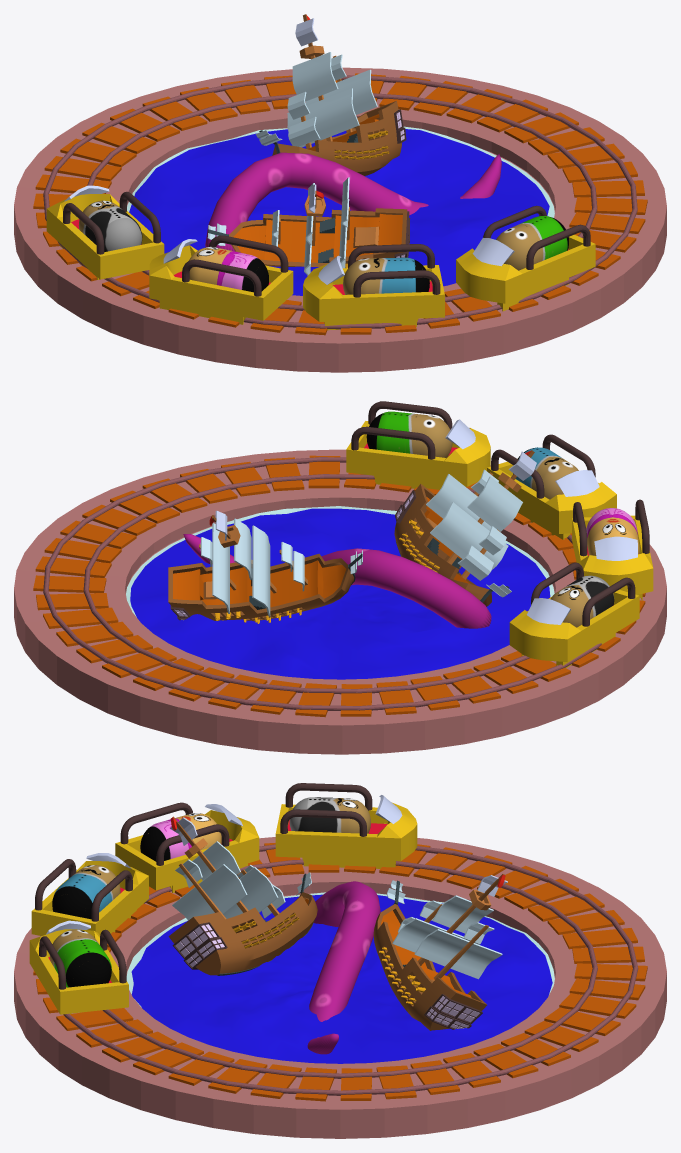
File: FastTrainTest3.fbx
3 renders of one model, top to bottom at view 1: azimuth 30°, elevation 25°; view 2: azimuth 150°, elevation 25°; view 3: azimuth 270°, elevation 25°, orthographic.
Visible parts, largest first — view 1: BezierCircle.002, Cube.002, BezierCircle.003, Cube.003, Circle.001, Cube.008, Cylinder.002, Vagon2, Vagon3, Vagon4, Vagon1, Man5 (+3 smaller); view 2: BezierCircle.002, BezierCircle.003, Cube.002, Cube.003, Cube.008, Circle.001, Vagon4, Vagon1, Cylinder.002, Vagon3, Vagon2, Man6 (+3 smaller); view 3: BezierCircle.002, BezierCircle.003, Cube.002, Cube.008, Cube.003, Circle.001, Vagon1, Cylinder.002, Vagon2, Vagon4, Vagon3, Man6 (+3 smaller).
Boxes of the visible parts, box(x1,y1,x2,y2) form: BezierCircle.002: box(14, 67, 666, 372); Cube.002: box(33, 73, 647, 335); BezierCircle.003: box(127, 126, 554, 295); Cube.003: box(255, 14, 406, 175); Circle.001: box(43, 75, 637, 329); Cube.008: box(207, 177, 410, 275); Cylinder.002: box(205, 152, 501, 251); Vagon2: box(149, 235, 293, 324); Vagon3: box(303, 244, 444, 330); Vagon4: box(456, 205, 595, 311); Vagon1: box(46, 185, 164, 279); Man5: box(343, 257, 429, 294); BezierCircle.002: box(14, 449, 666, 754); BezierCircle.003: box(126, 506, 554, 679); Cube.002: box(33, 455, 645, 717); Cube.003: box(168, 510, 362, 623); Cube.008: box(394, 450, 536, 606); Circle.001: box(43, 457, 601, 710); Vagon4: box(346, 401, 490, 489); Vagon1: box(509, 562, 639, 668); Cylinder.002: box(183, 534, 491, 628); Vagon3: box(487, 434, 616, 539); Vagon2: box(572, 499, 653, 600); Man6: box(366, 411, 452, 457); BezierCircle.002: box(14, 837, 666, 1138); BezierCircle.003: box(126, 892, 554, 1063); Cube.002: box(33, 843, 647, 1101); Cube.008: box(168, 816, 317, 975); Cube.003: box(373, 874, 507, 1030); Circle.001: box(63, 844, 638, 1095); Vagon1: box(275, 783, 417, 868); Cylinder.002: box(307, 881, 380, 1054); Vagon2: box(115, 802, 259, 892); Vagon4: box(29, 920, 128, 1014); Vagon3: box(31, 853, 148, 935); Man6: box(49, 929, 111, 987).
Bounding box in the file's own units: 752 × 218 × 752.
